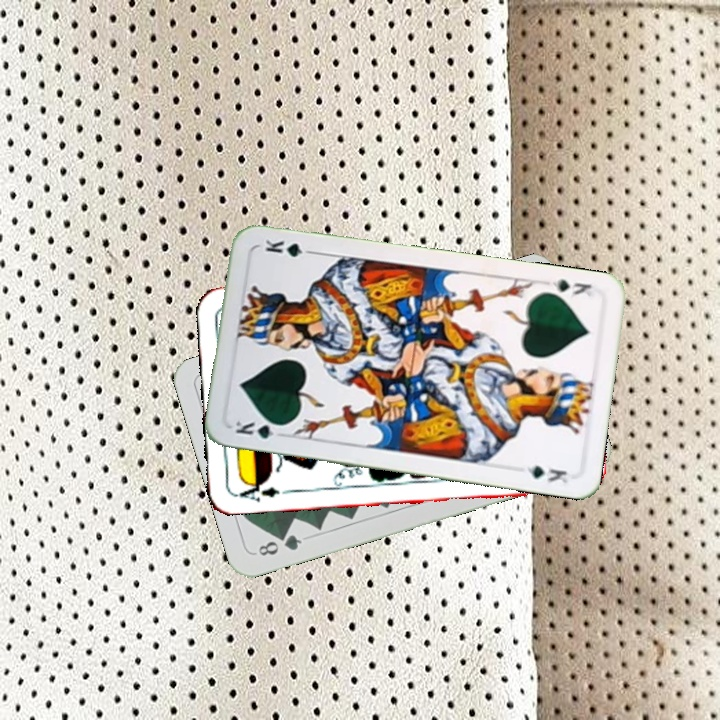EA: (232, 477, 291, 504)
G8: (254, 530, 305, 559)
GK: (231, 416, 289, 441), (546, 275, 598, 301)
